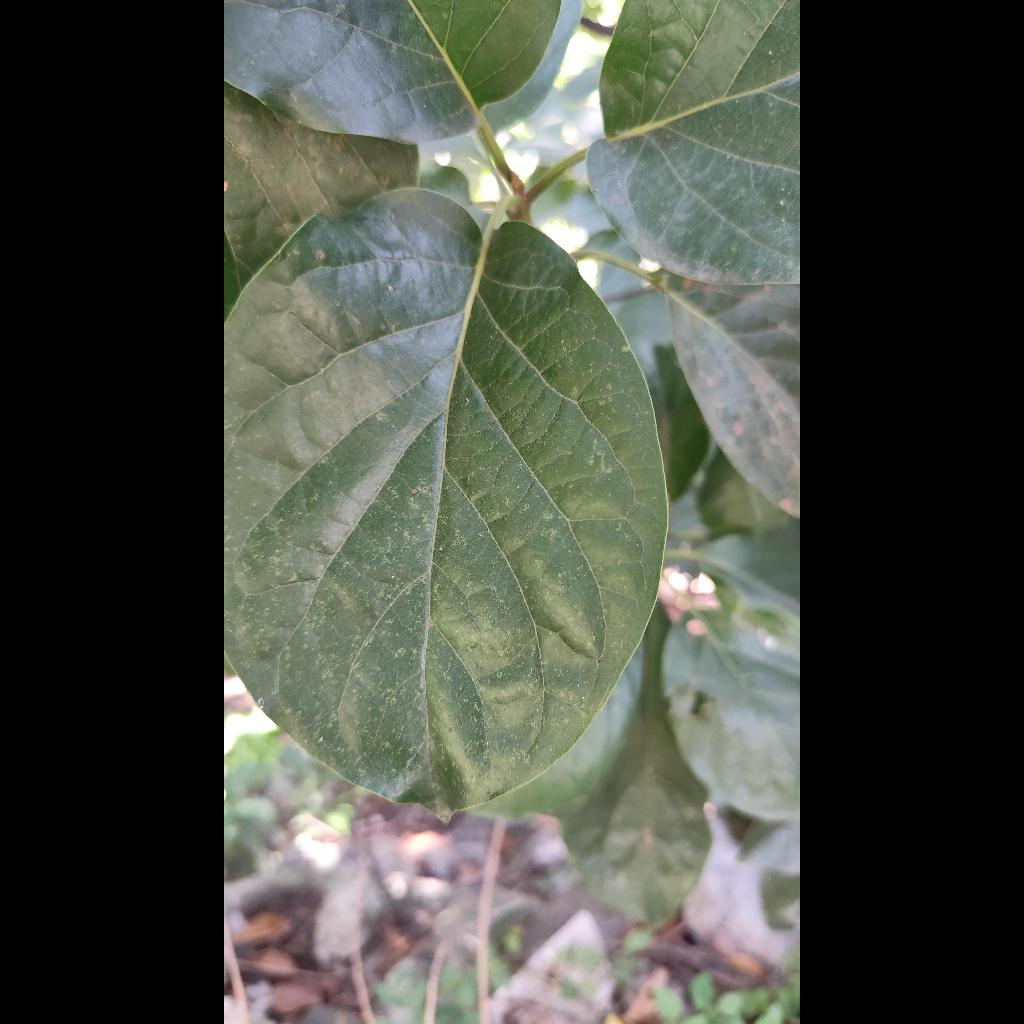Healthy: (225, 189, 667, 818)
